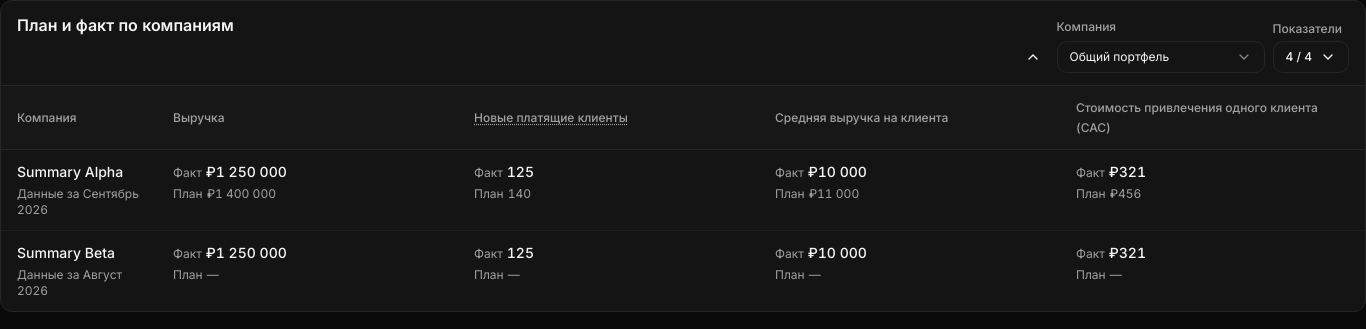
Test: PortfolioPlanFactTable › defaults to portfolio company rows, selects one and returns to all
This screenshot has width=1366, height=329.
Expected: the number of rows is 3, 1,86 -> 1365,150; 1,150 -> 1365,230; 1,230 -> 1365,311
Click the dropdown named "Компания": click(1160, 57) 1056,41 -> 1264,73
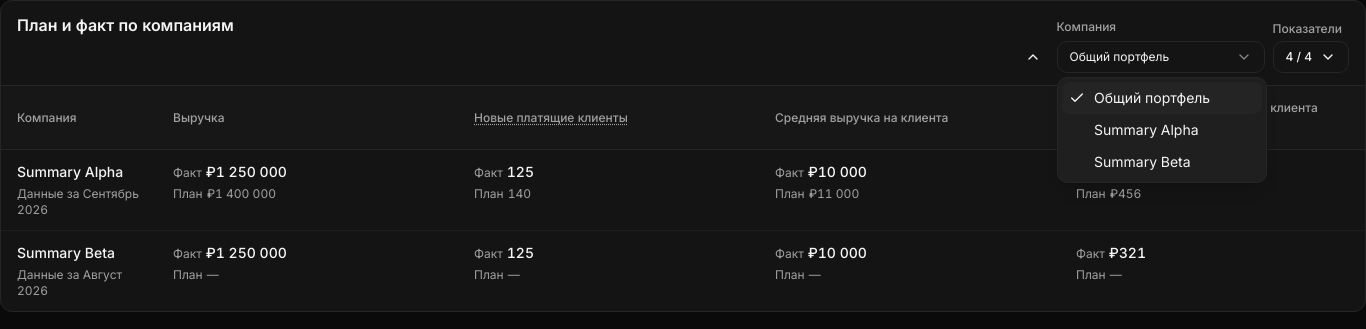
Click the option "Summary Alpha": click(1146, 130) 1094,121 -> 1198,138
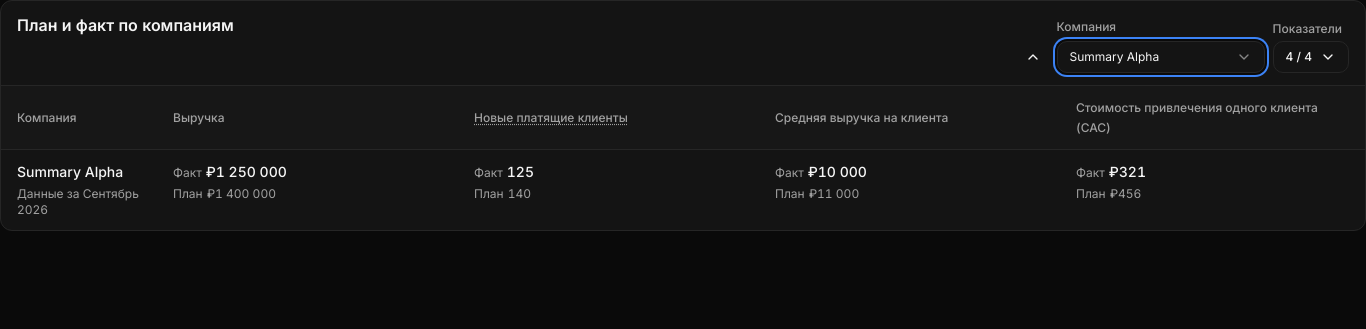
Now the number of rows is 2, box 1,86 -> 1365,150; 1,150 -> 1365,230
Now the column heading "Summary Beta" is gone
Click the dropdown named "Компания": click(1160, 57) 1056,41 -> 1264,73
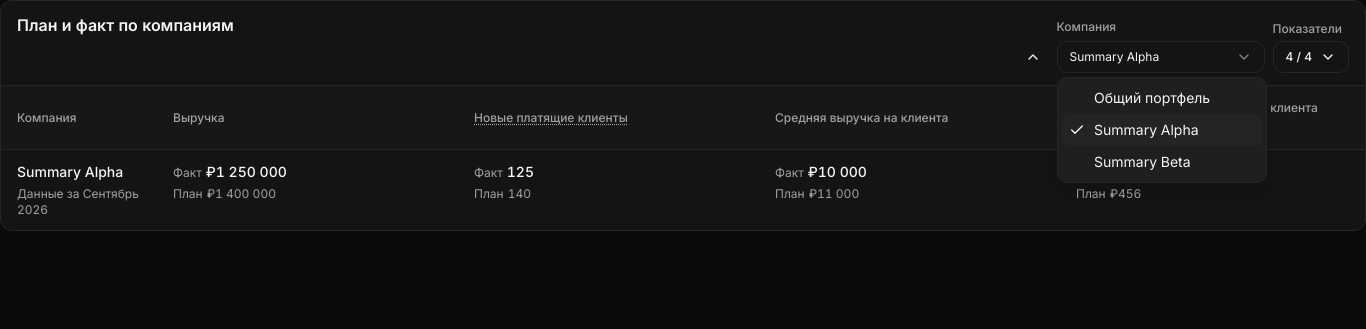
Click the option "Общий портфель": click(1152, 98) 1094,89 -> 1210,106
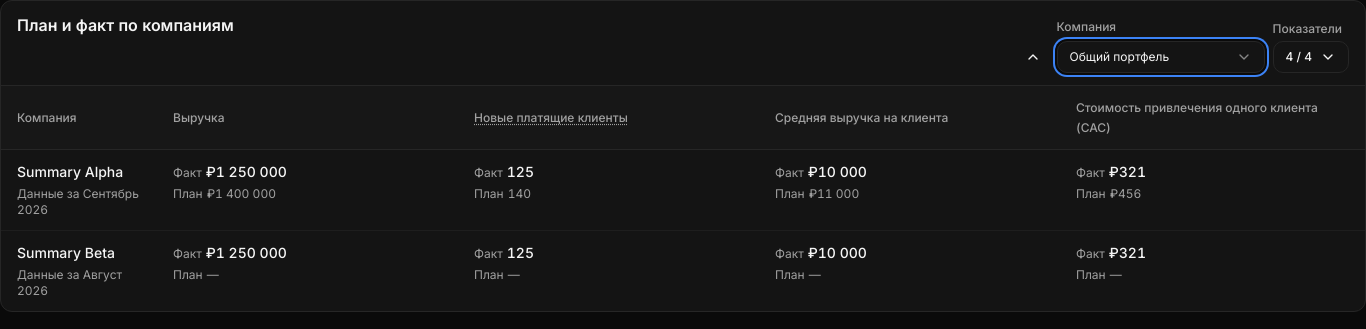
Now the column heading "Summary Beta" is shown, box 17,244 -> 115,261
